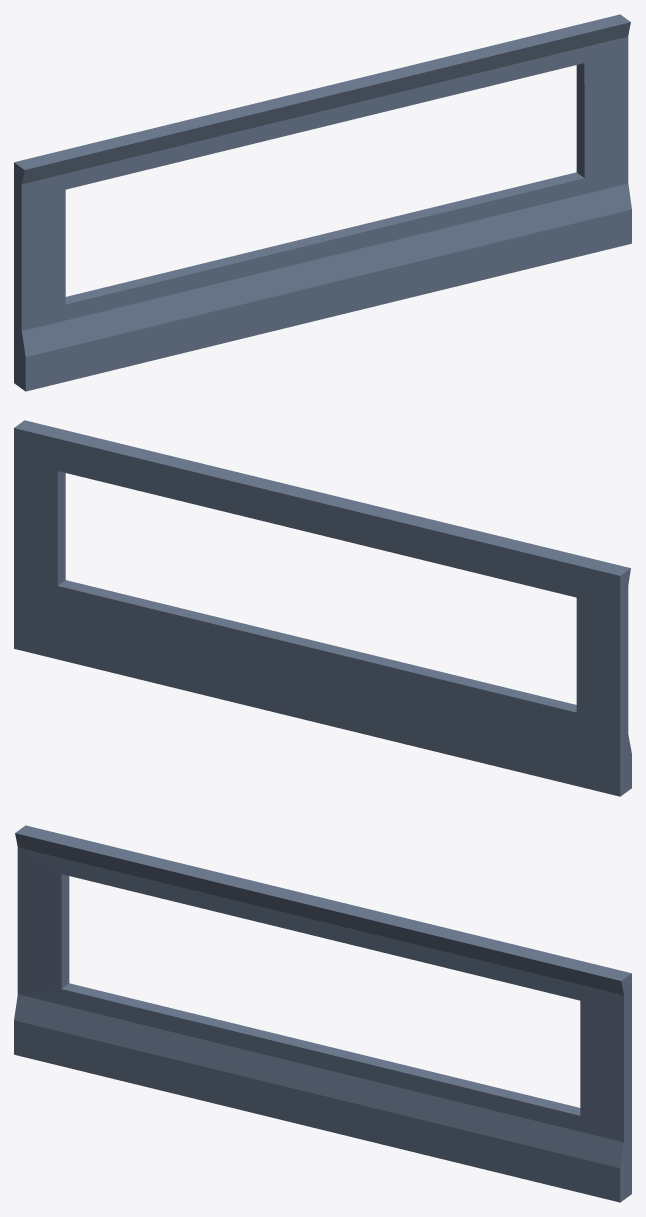
Rendered from Submarine Window Frame.fbx.
3 views of the same model, one above another, from view 1: azimuth 30°, elevation 25°; view 2: azimuth 150°, elevation 25°; view 3: azimuth 330°, elevation 25° (orthographic).
Visible parts, largest first — view 1: Wall.000; view 2: Wall.000; view 3: Wall.000.
Boxes of the visible parts, <box> form: Wall.000: <box>14,14,631,391</box>; Wall.000: <box>14,420,631,796</box>; Wall.000: <box>14,825,631,1202</box>.
Bounding box in the file's own units: 1395 × 485 × 46.43.
